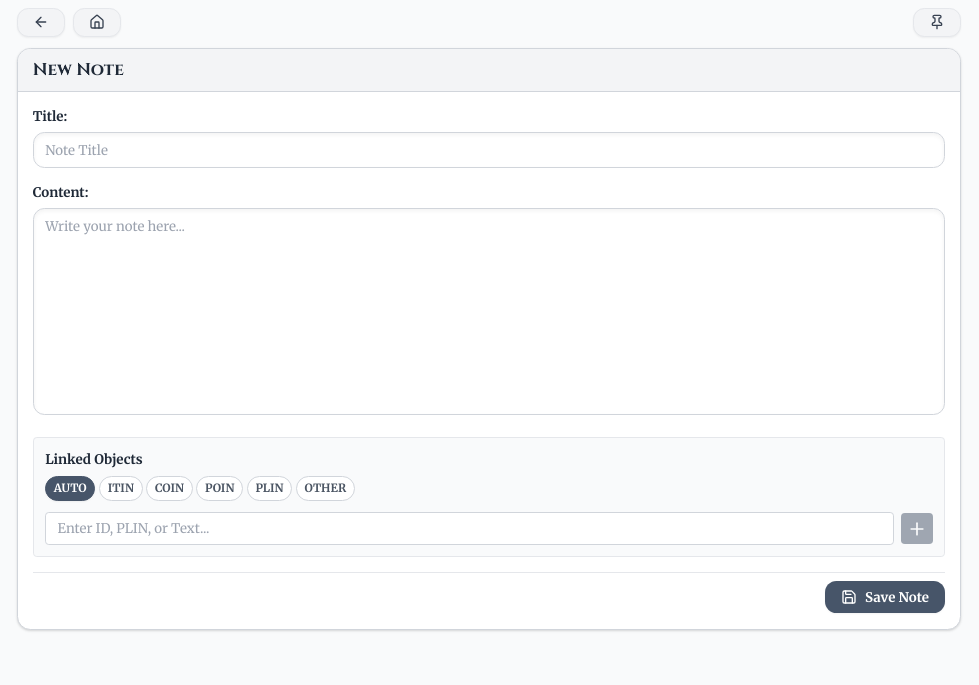
Test: CreateNote Page › verifies and adds ITIN link
Type "1234" into the field with placeholder "Enter ID, PLIN, or Text..." at (470, 529), box left=45, top=512, right=894, bottom=545
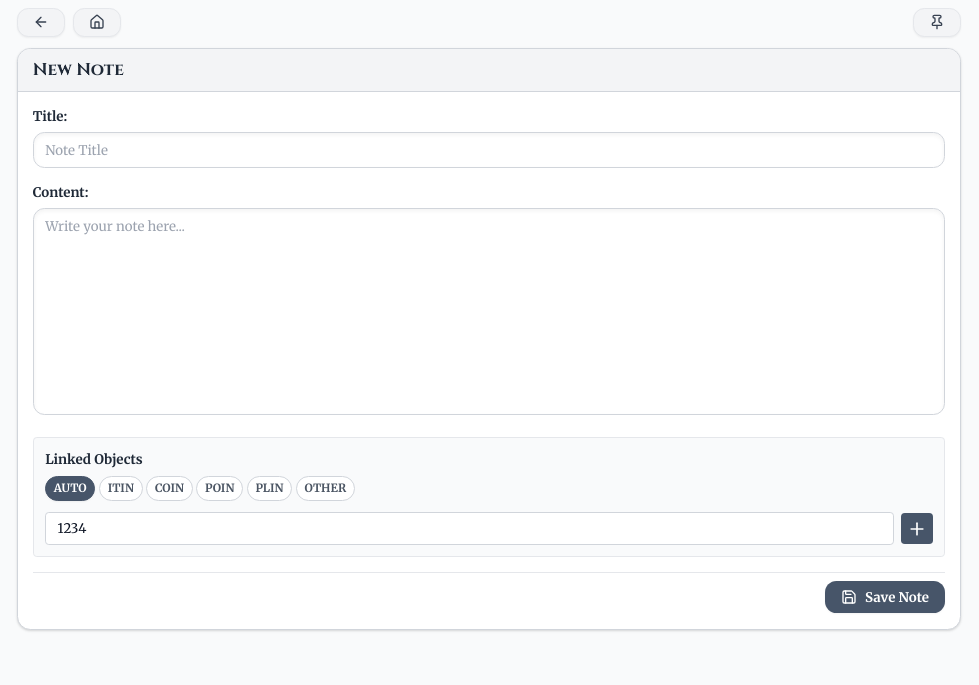
Click the button titled "Add Link" at (917, 529), box left=902, top=513, right=933, bottom=544
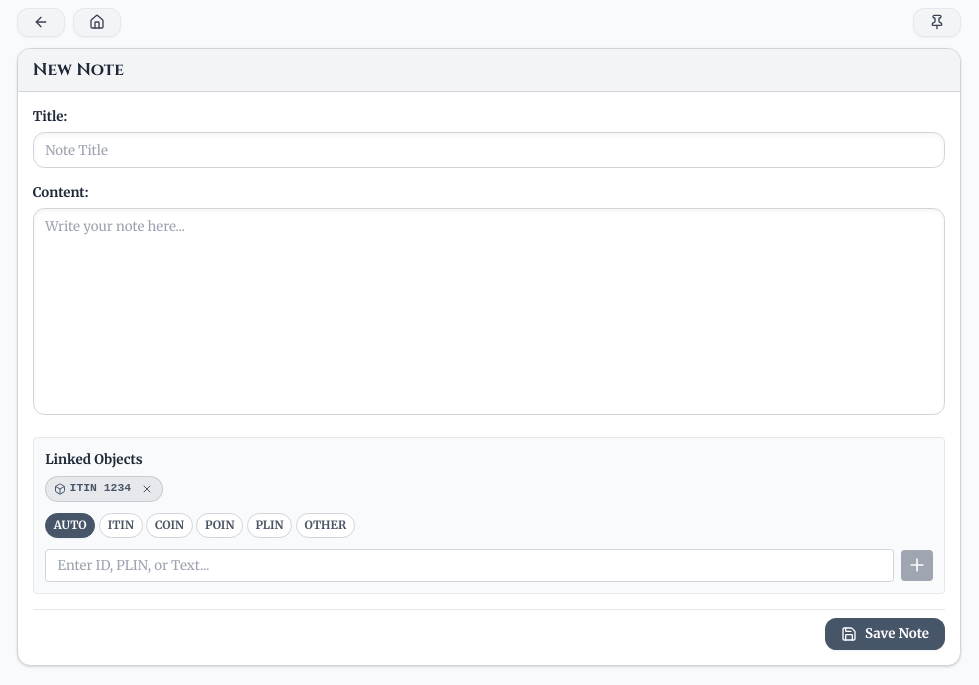
Expected: the text "ITIN 1234" is shown, left=70, top=481, right=131, bottom=496
